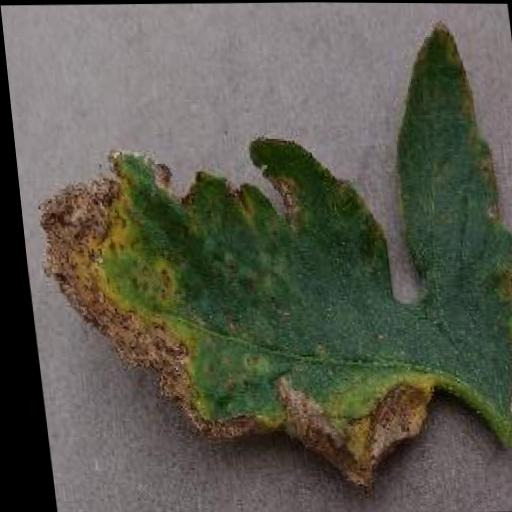Bacterial Spot: (4, 14, 512, 492)
